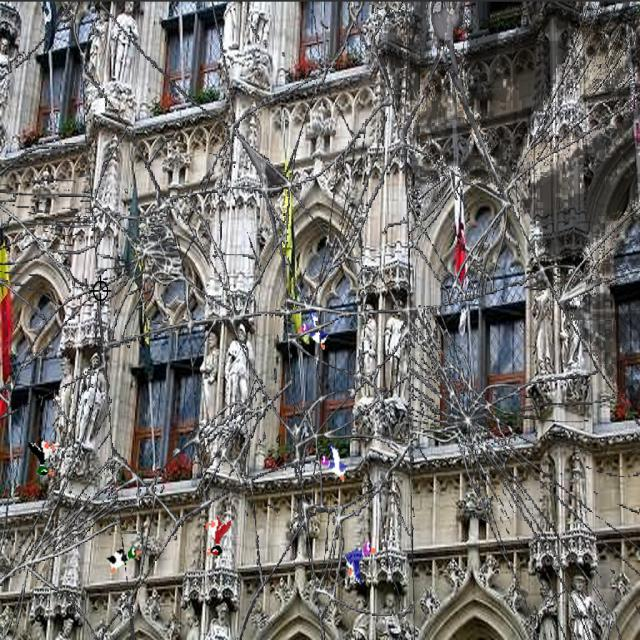duck: (290, 306, 338, 359), (339, 534, 377, 582), (314, 439, 353, 483), (102, 545, 146, 575)
falling_duck: (30, 428, 64, 490), (201, 509, 234, 567)
